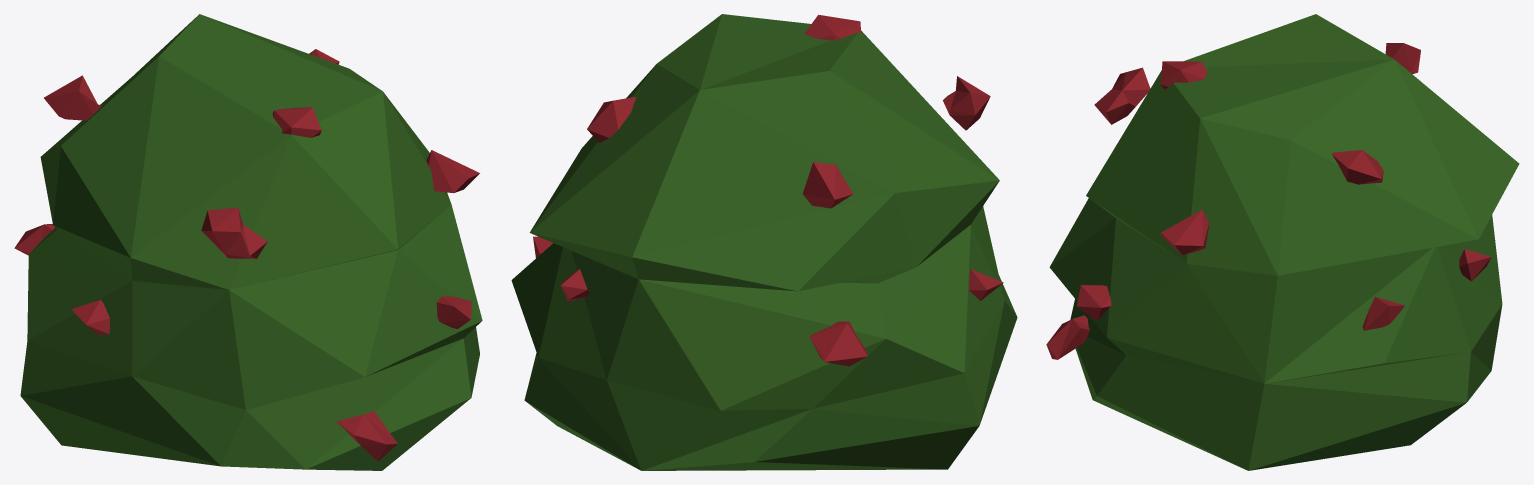
Rendered from p_berry.glb.
3 renders of one model, left to right at view 1: azimuth 30°, elevation 25°; view 2: azimuth 150°, elevation 25°; view 3: azimuth 270°, elevation 25°, orthographic. The views are drawn at different scales.
Visible parts, largest first — view 1: p_berry; view 2: p_berry; view 3: p_berry.
Part boxes in pixels (x1,y1,x2,y2): p_berry: (14, 14, 482, 470); p_berry: (511, 14, 1017, 470); p_berry: (1046, 14, 1519, 470).
Bounding box in the file's own units: 1.33 × 1.11 × 1.34.
